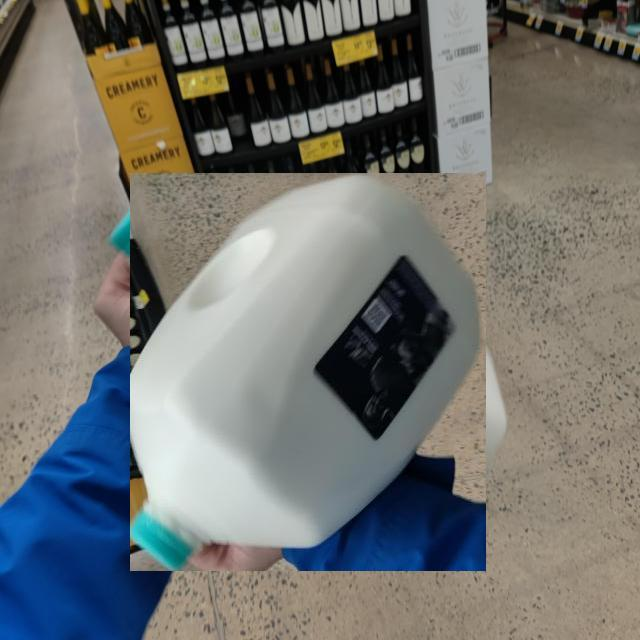Milk: (131, 172, 486, 571)
